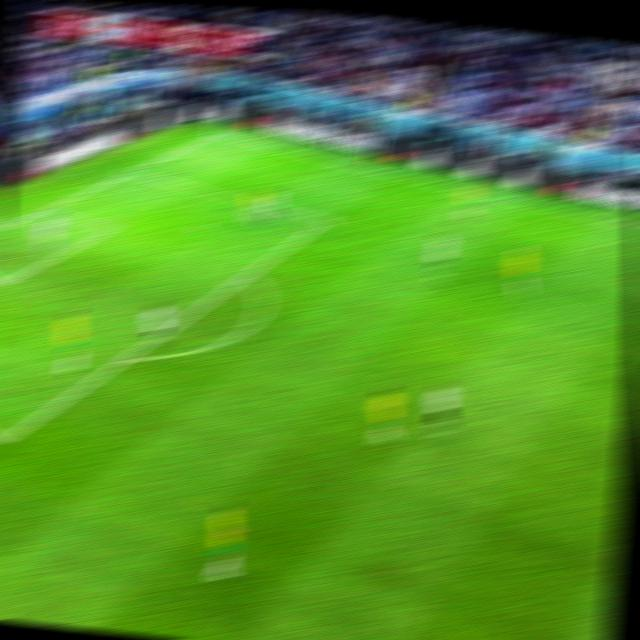bigarea_top_inner: (312, 208, 337, 228)
bigarea_top_outter: (118, 162, 145, 178)
bottom_arc_area_intersection: (112, 346, 140, 366)
corner: (202, 126, 230, 139)
smallarea_top_inner: (98, 218, 124, 236)
smallarea_top_outter: (33, 200, 59, 217)
top_arc_area_intersection: (234, 264, 259, 283)
